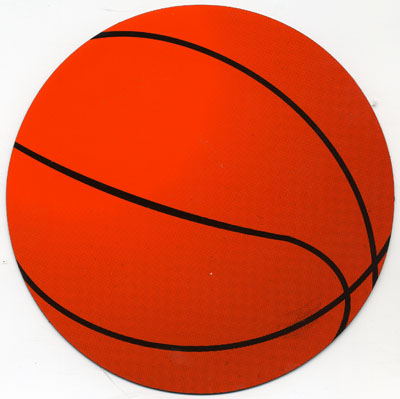basketball: (7, 4, 394, 392)
